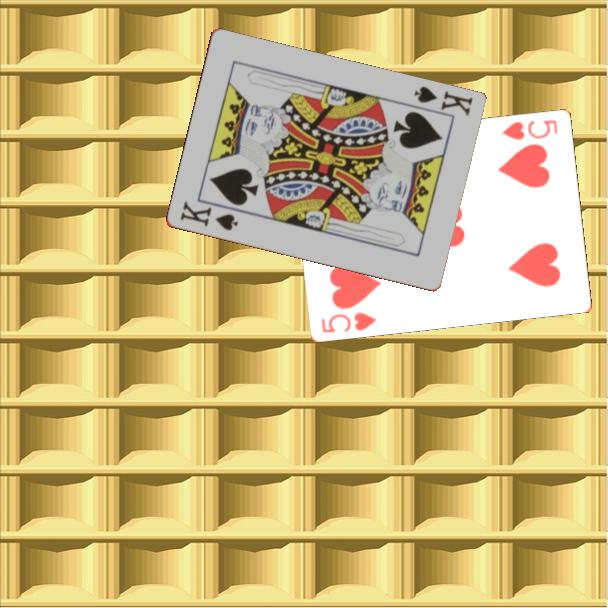h05: (499, 116, 561, 143), (318, 309, 379, 335)
s13: (176, 198, 241, 234), (410, 83, 475, 119)
